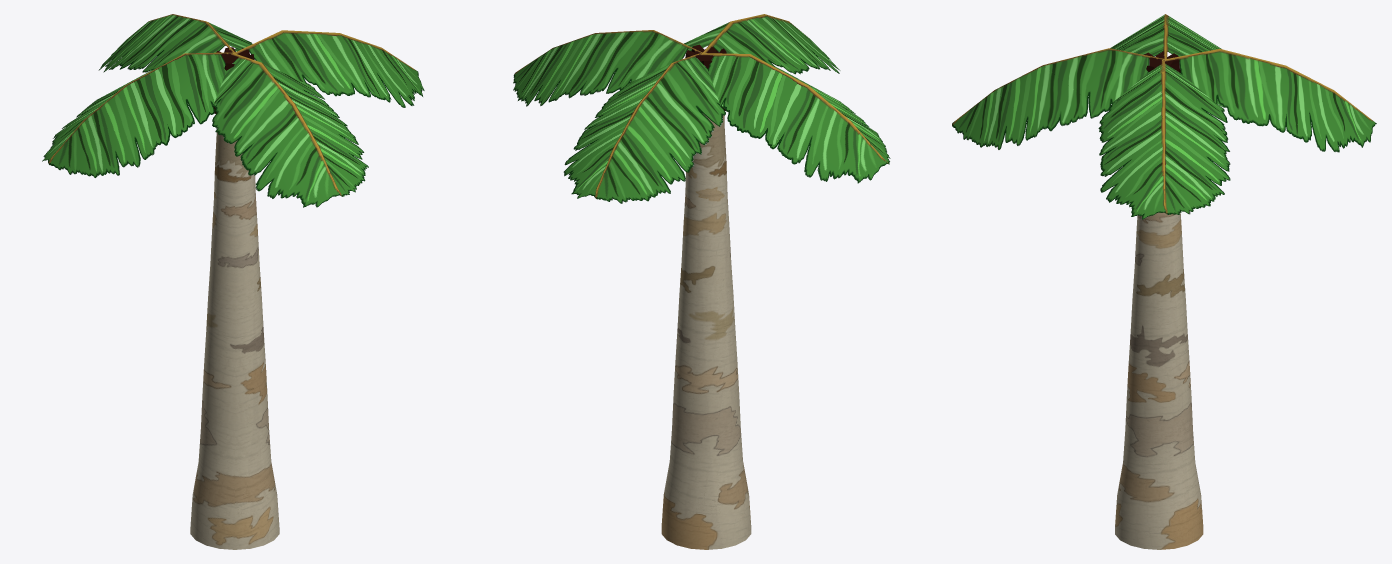
The model's file is Tree_Model.FBX.
3 renders of one model, left to right at view 1: azimuth 30°, elevation 25°; view 2: azimuth 150°, elevation 25°; view 3: azimuth 270°, elevation 25°, orthographic.
Visible parts, largest first — view 1: Cylinder001, Leaf_005, Leaf_008, Leaf_006, Leaf_007; view 2: Cylinder001, Leaf_007, Leaf_008, Leaf_006, Leaf_005; view 3: Cylinder001, Leaf_006, Leaf_007, Leaf_005, Leaf_008.
Part boxes in pixels (x1=…): Cylinder001: x1=190, y1=132, x2=279, y2=549; Leaf_005: x1=212, y1=53, x2=368, y2=207; Leaf_008: x1=42, y1=52, x2=233, y2=177; Leaf_006: x1=234, y1=30, x2=424, y2=107; Leaf_007: x1=98, y1=14, x2=252, y2=72; Cylinder001: x1=661, y1=113, x2=751, y2=549; Leaf_007: x1=563, y1=52, x2=725, y2=203; Leaf_008: x1=700, y1=53, x2=890, y2=183; Leaf_006: x1=513, y1=30, x2=702, y2=106; Leaf_005: x1=684, y1=14, x2=840, y2=74; Cylinder001: x1=1115, y1=212, x2=1203, y2=549; Leaf_006: x1=1098, y1=59, x2=1230, y2=219; Leaf_007: x1=1164, y1=49, x2=1376, y2=152; Leaf_005: x1=952, y1=48, x2=1164, y2=149; Leaf_008: x1=1110, y1=14, x2=1221, y2=60.
Bounding box in the file's own units: 129 × 162 × 129.
